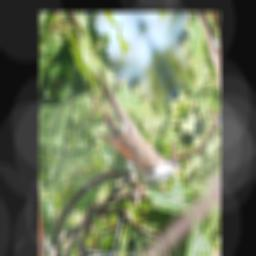Cuckoo: (72, 42, 184, 219)
